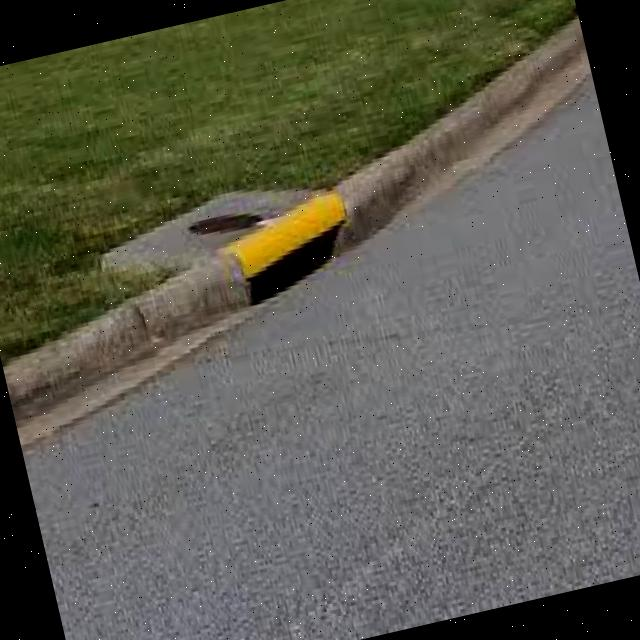curb: (76, 191, 363, 374), (307, 87, 519, 282), (448, 1, 603, 181), (1, 296, 147, 435)
